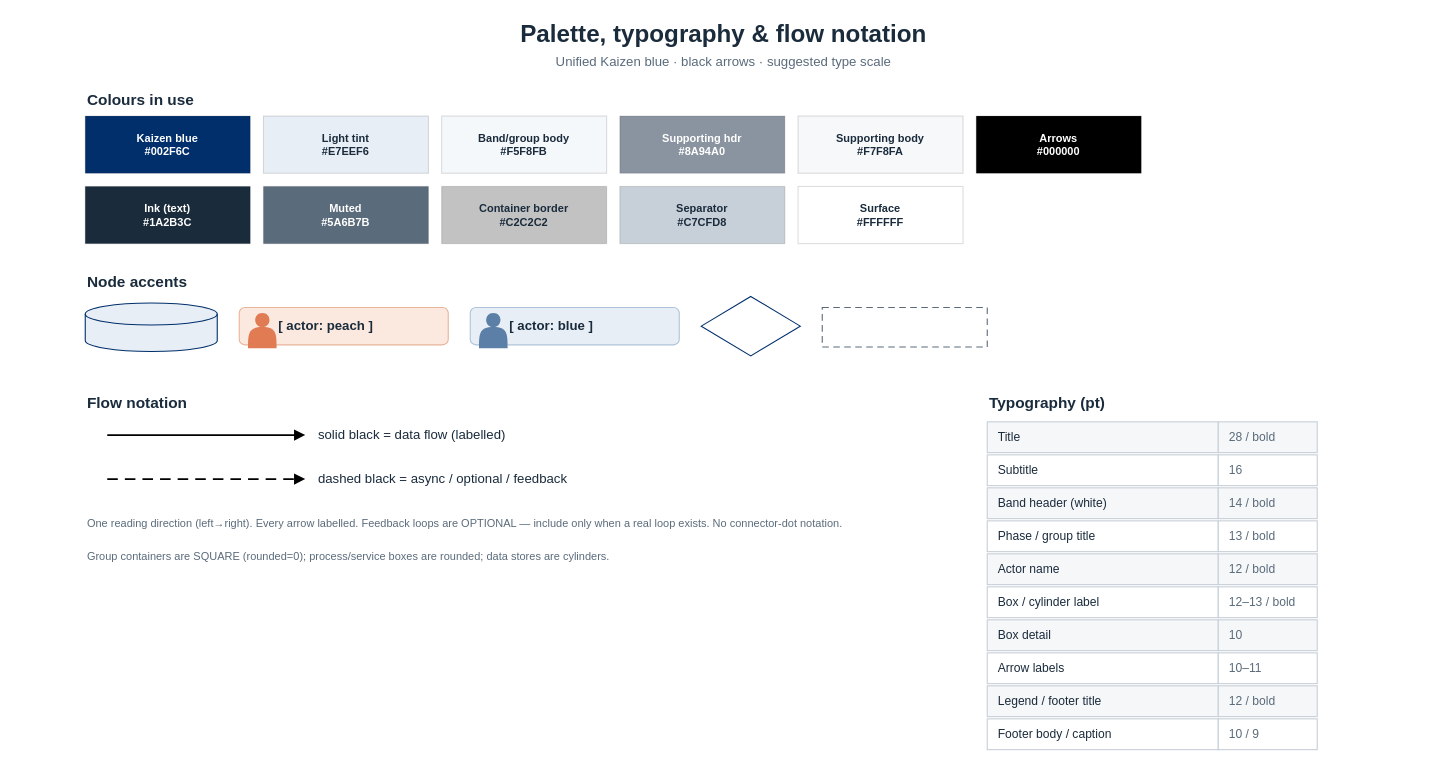
The diagram is 1445 pixels wide and 769 high, and some of its shapes have lost their labels. The box of each missing label's shape, as (x1, y1, x2, y2) in pixels:
data store: (84, 302, 217, 351)
decision: (700, 295, 800, 356)
external: (821, 306, 987, 347)
